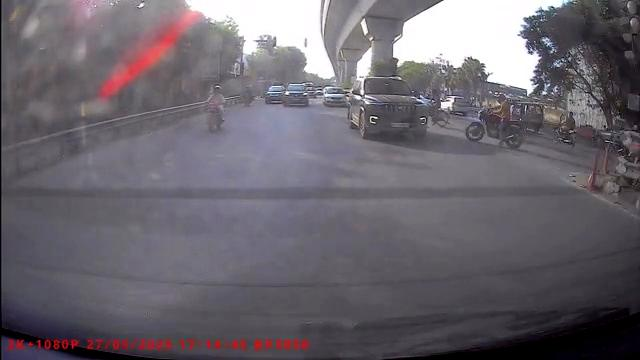motorcycle_with_helmet: (464, 90, 527, 151), (203, 83, 226, 133)
